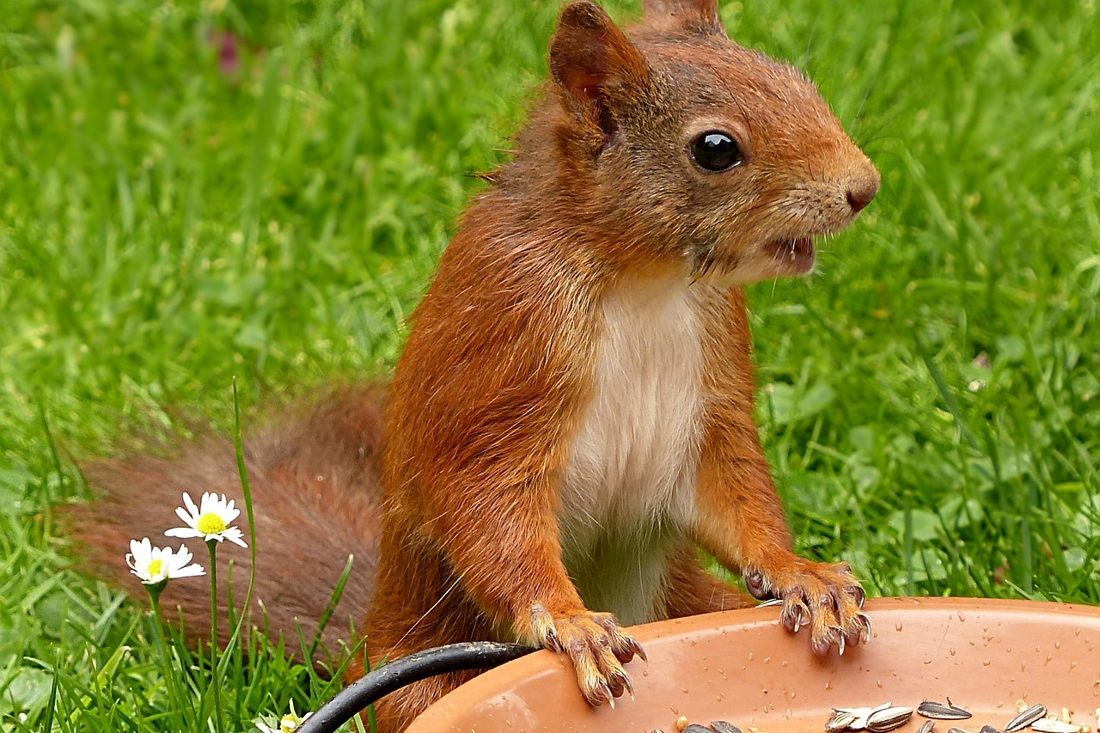Ardilla: (398, 6, 895, 712)
